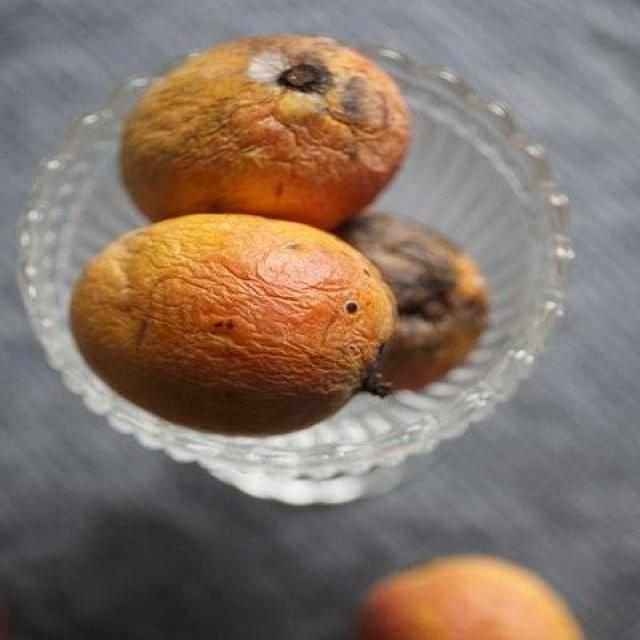Wet: (54, 30, 492, 442), (355, 548, 586, 638)
